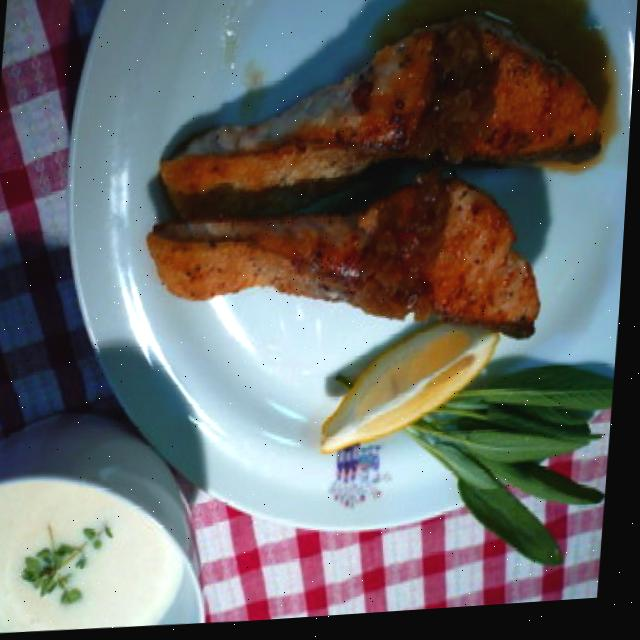熟制海鲜: (136, 0, 636, 377)
